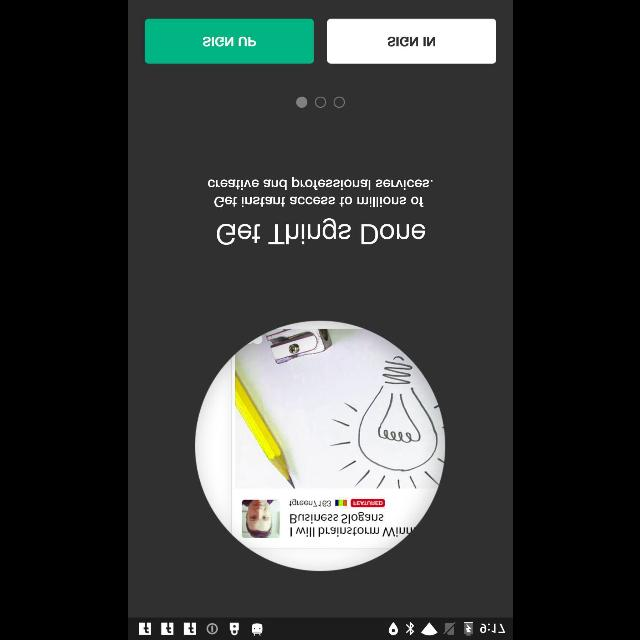image: (193, 320, 444, 572)
pageindicator: (295, 96, 345, 108)
text: (207, 176, 433, 208), (215, 217, 425, 245)
textbutton: (327, 18, 496, 64), (144, 18, 312, 64)
uppertaskbar: (128, 617, 512, 639)
